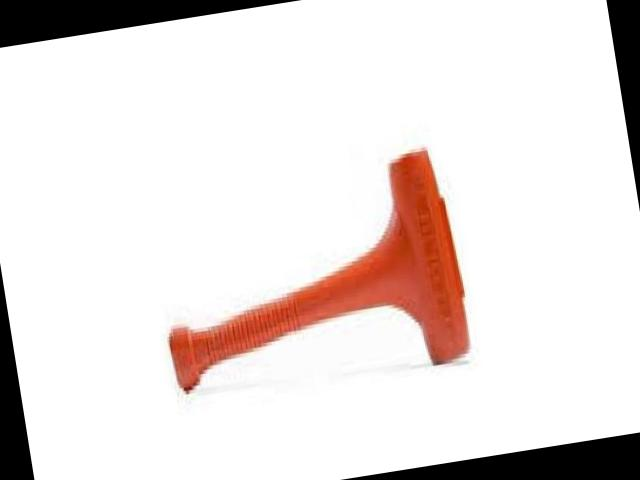hammer: (142, 142, 474, 406)
